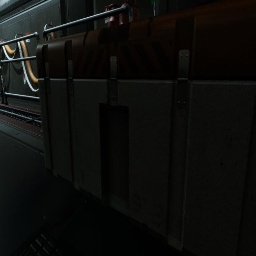NitrogenTank ,: (119, 0, 139, 25), (108, 4, 122, 27)
